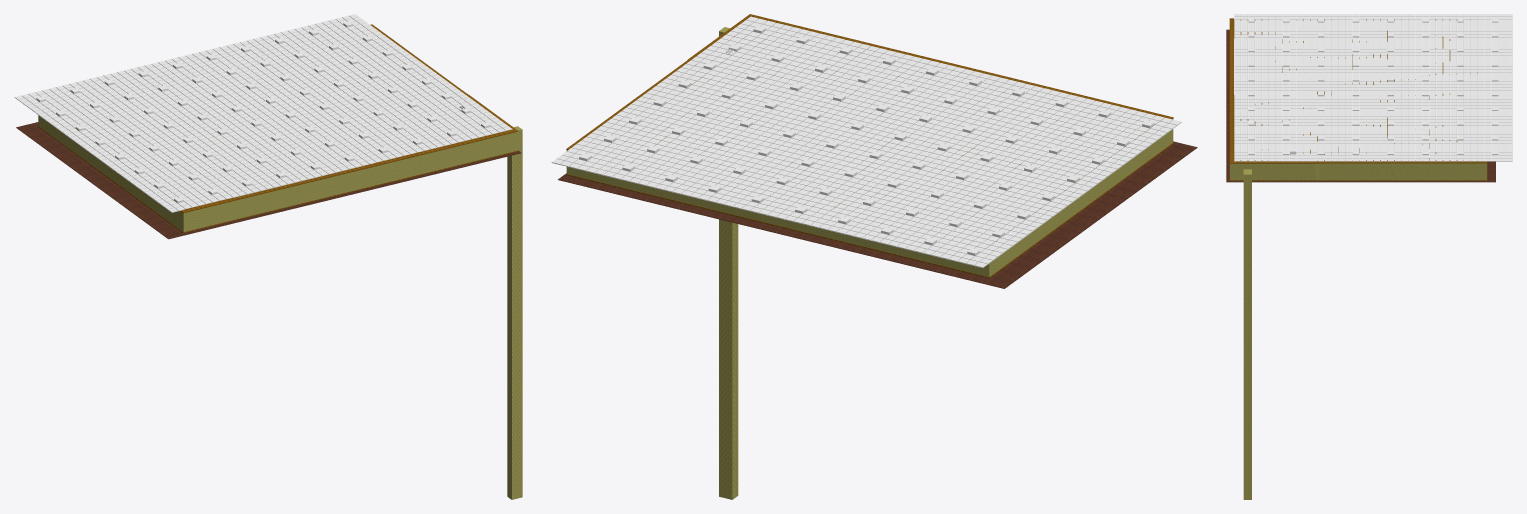
Rendered from beackrooms0001lv (2).fbx.
3 views of the same model, side by side, from view 1: azimuth 30°, elevation 25°; view 2: azimuth 150°, elevation 25°; view 3: azimuth 270°, elevation 25° (orthographic). The views are drawn at different scales.
Visible parts, largest first — view 1: Cube.003, Cube.002, Cube.008, Cube.007; view 2: Cube.003, Cube.002, Cube.007, Cube.008; view 3: Cube.003, Cube.002, Cube.008, Cube.007.
Boxes of the visible parts, x1,y1,x2,y2 form: Cube.003: (14,14,512,212); Cube.002: (37,24,518,233); Cube.008: (507,126,522,499); Cube.007: (16,122,521,239); Cube.003: (551,16,1181,267); Cube.002: (566,14,1173,278); Cube.007: (558,141,1197,288); Cube.008: (719,27,738,499); Cube.003: (1234,14,1512,161); Cube.002: (1229,18,1487,181); Cube.008: (1243,169,1251,499); Cube.007: (1226,29,1495,182).
Size of the model in its own units: 4306 by 4269 by 3318.
10 materials, 4 textured.
